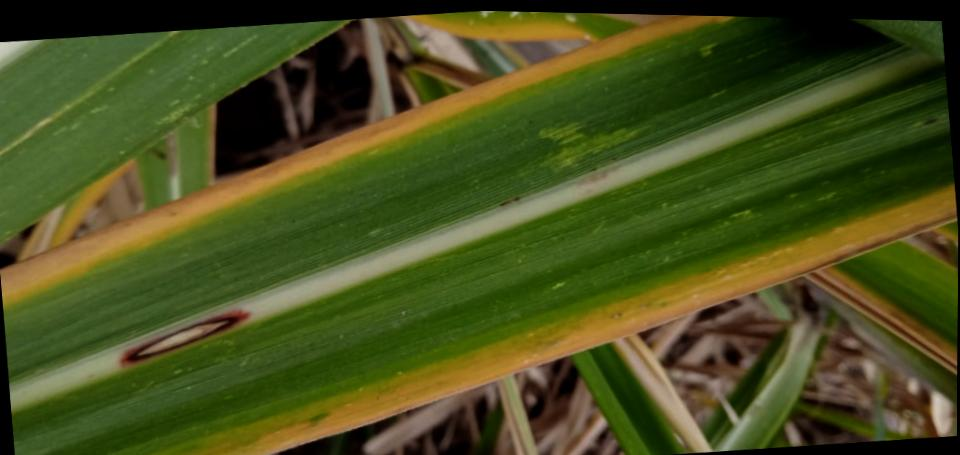RedRot: (118, 310, 251, 368)
Rust: (499, 194, 521, 207), (923, 117, 939, 125)
Yellow: (0, 15, 730, 304), (215, 186, 957, 455), (407, 14, 600, 44)
